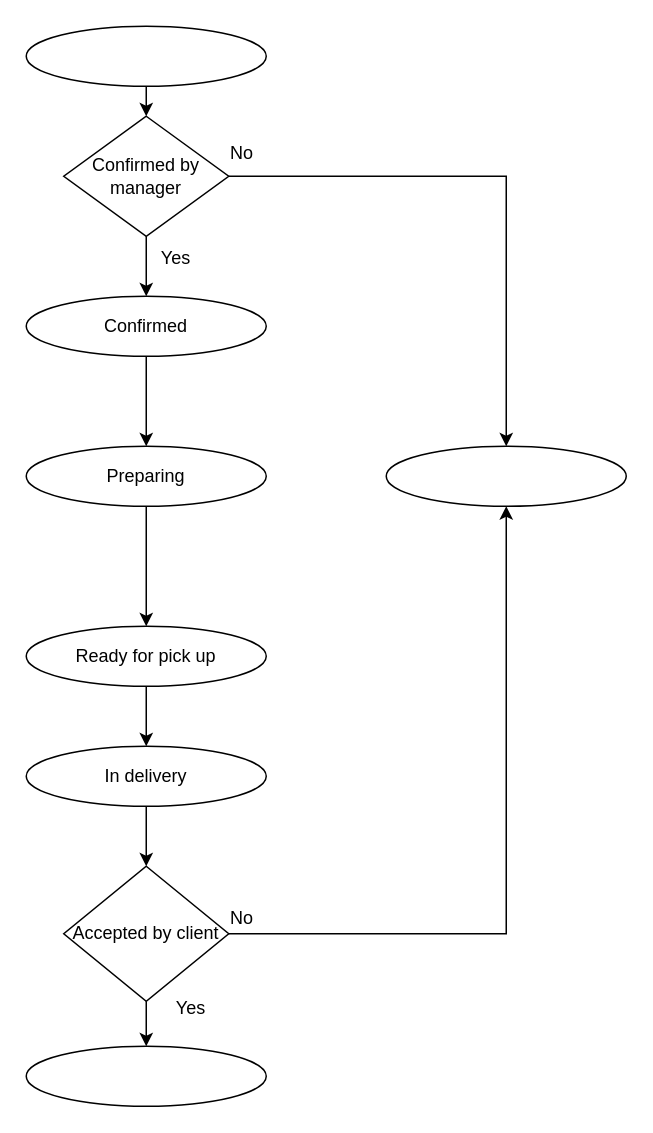
Image size: 653x1133. Some labels were removed from this diagram. The shapes that lost their labels are listed below. From the top down, each one's box as (x1, y1, x2, y2) in pixels, then its label:
(25, 25, 266, 86): Pending
(385, 445, 626, 506): Cancelled
(25, 1045, 266, 1106): Completed
